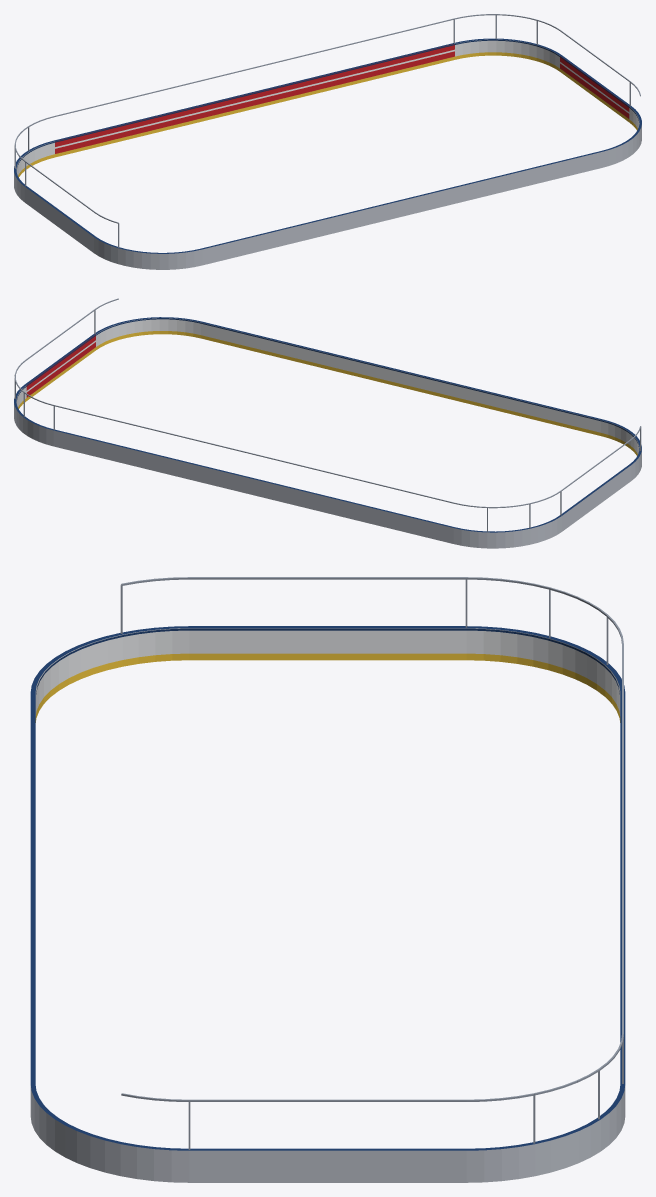
File: boards.glb
The picture shows the model from 3 angles, top to bottom: view 1: azimuth 30°, elevation 25°; view 2: azimuth 150°, elevation 25°; view 3: azimuth 270°, elevation 25°; orthographic projection. The views are drawn at different scales.
Parts seen in each view (by area): view 1: ice_boards_body; view 2: ice_boards_body; view 3: ice_boards_body.
Boxes of the visible parts, left/top/right/bottom form: ice_boards_body: left=14, top=14, right=641, bottom=269; ice_boards_body: left=14, top=298, right=641, bottom=548; ice_boards_body: left=30, top=577, right=625, bottom=1182.
Size of the model in its own units: 40.32 by 2.93 by 19.32.
1 material, 1 textured.
